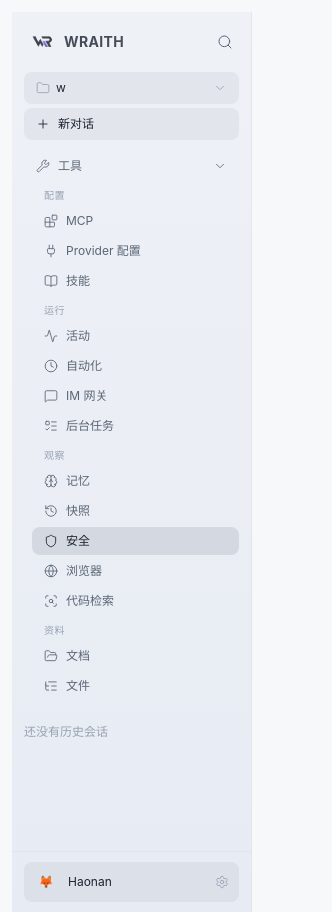
it: 侧栏「工具」分组展开/折叠 › 在工具页时点「工具」头部能收起(bug:此前 activeNav!==null 强制展开压过手动收起)
The width and height of the screenshot is (332, 912).
Check: the button with test id "nav-plugins" is shown, box x1=32 y1=207 x2=239 y2=235
// 用户点「工具」想收起
Click the button with test id "nav-tools-toggle": (132, 166) x1=24 y1=152 x2=239 y2=180
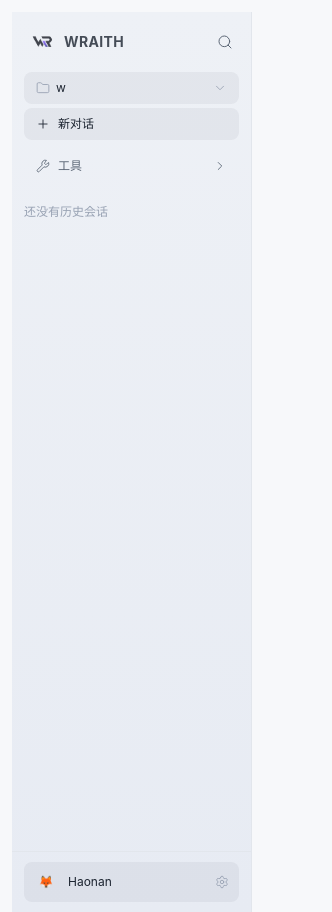
Check: the button with test id "nav-plugins" is gone
